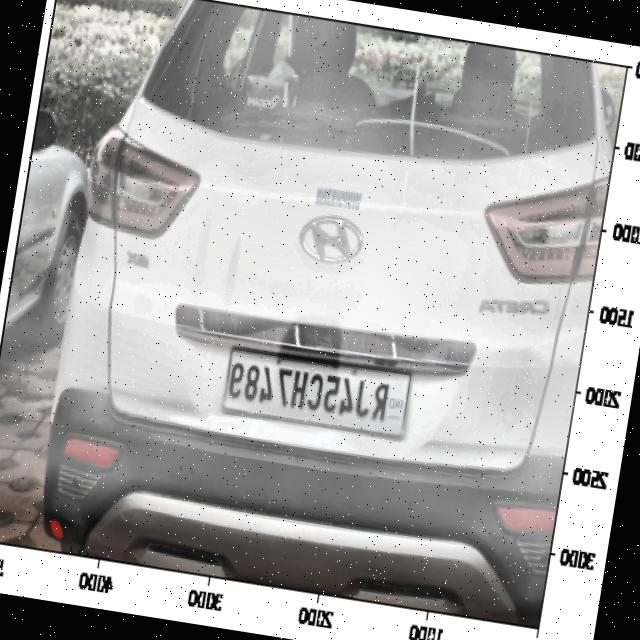license_plate: (216, 347, 402, 442)
